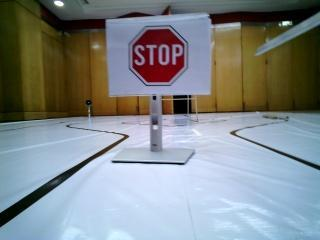stop: (114, 22, 218, 92)
